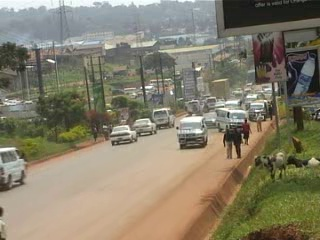Car: (108, 123, 138, 147), (132, 116, 157, 138), (198, 108, 220, 131)
